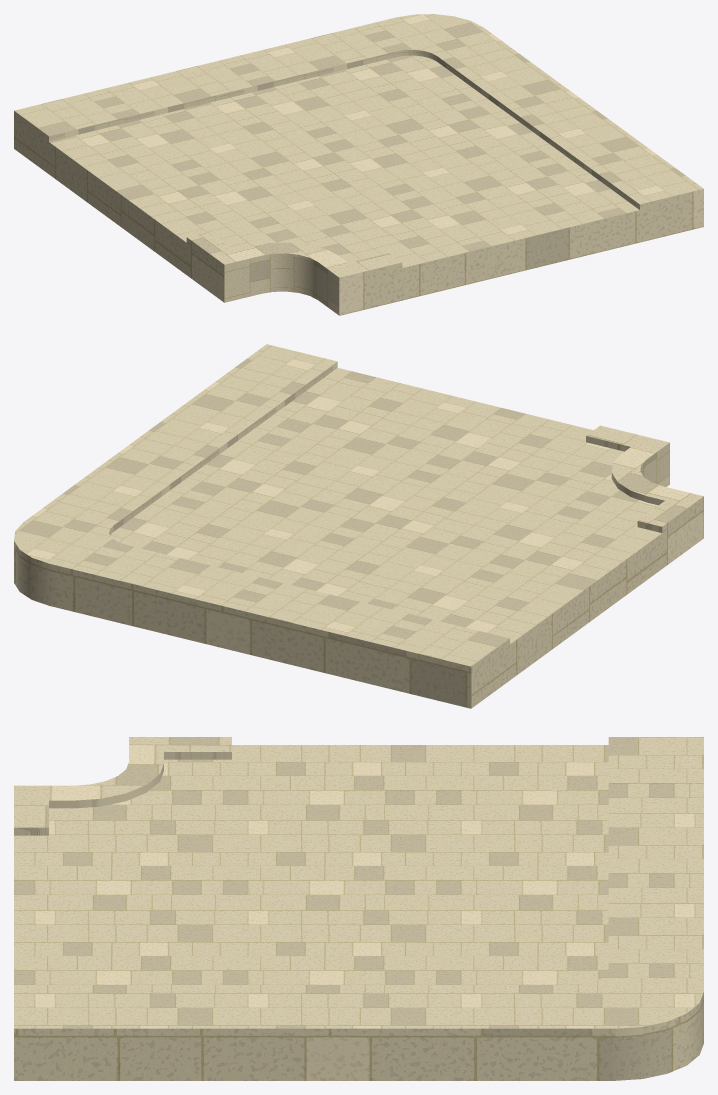
Rendered from Road_L.gltf.
The picture shows the model from 3 angles, top to bottom: view 1: azimuth 30°, elevation 25°; view 2: azimuth 150°, elevation 25°; view 3: azimuth 270°, elevation 25°; orthographic projection. The views are drawn at different scales.
Parts seen in each view (by area): view 1: Cube.019; view 2: Cube.019; view 3: Cube.019.
Boxes of the visible parts, x1,y1,x2,y2 form: Cube.019: (14, 14, 703, 315); Cube.019: (14, 344, 703, 708); Cube.019: (14, 737, 703, 1080).
Bounding box in the file's own units: 12 × 1 × 12.
